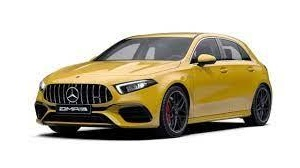car: (25, 30, 281, 144)
